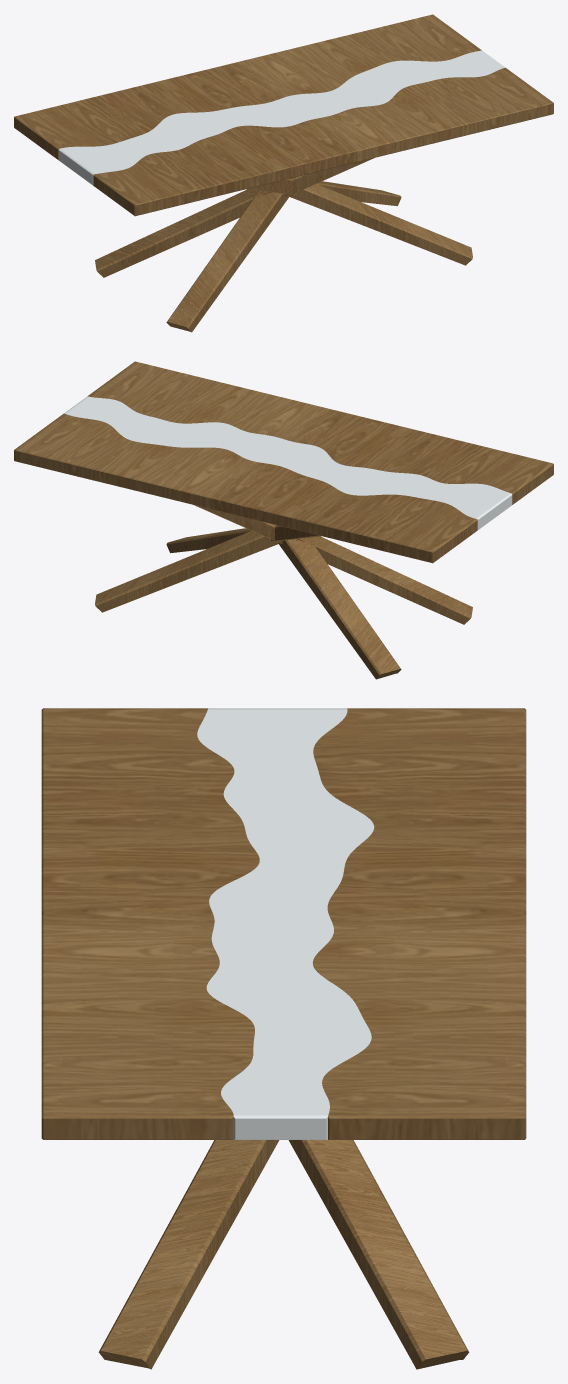
Rendered from rectangular-oak-epoxy-clear.glb.
The picture shows the model from 3 angles, top to bottom: view 1: azimuth 30°, elevation 25°; view 2: azimuth 150°, elevation 25°; view 3: azimuth 270°, elevation 25°; orthographic projection. The views are drawn at different scales.
Parts seen in each view (by area): view 1: Wood_Rectangular_EpoxyFar, Wood_Rectangular_EpoxyNear, Base_target, Resin_Rectangular; view 2: Wood_Rectangular_EpoxyNear, Wood_Rectangular_EpoxyFar, Base_target, Resin_Rectangular; view 3: Wood_Rectangular_EpoxyNear, Wood_Rectangular_EpoxyFar, Resin_Rectangular, Base_target.
Part boxes in pixels (bbox=[...]): Wood_Rectangular_EpoxyFar: bbox=[93, 67, 553, 216]; Wood_Rectangular_EpoxyNear: bbox=[14, 14, 481, 159]; Base_target: bbox=[95, 158, 472, 332]; Resin_Rectangular: bbox=[58, 50, 504, 185]; Wood_Rectangular_EpoxyNear: bbox=[14, 413, 477, 563]; Wood_Rectangular_EpoxyFar: bbox=[88, 361, 553, 504]; Base_target: bbox=[95, 505, 472, 679]; Resin_Rectangular: bbox=[64, 396, 512, 529]; Wood_Rectangular_EpoxyNear: bbox=[312, 708, 526, 1139]; Wood_Rectangular_EpoxyFar: bbox=[41, 708, 259, 1139]; Resin_Rectangular: bbox=[197, 708, 374, 1139]; Base_target: bbox=[98, 1140, 469, 1369].
Bounding box in the file's own units: 2.13 × 0.762 × 1.07.
Materials: 2 (1 with a texture image).
